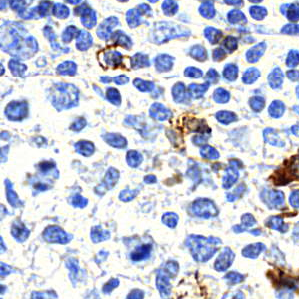Lymphocyte: (171, 109, 213, 139)
